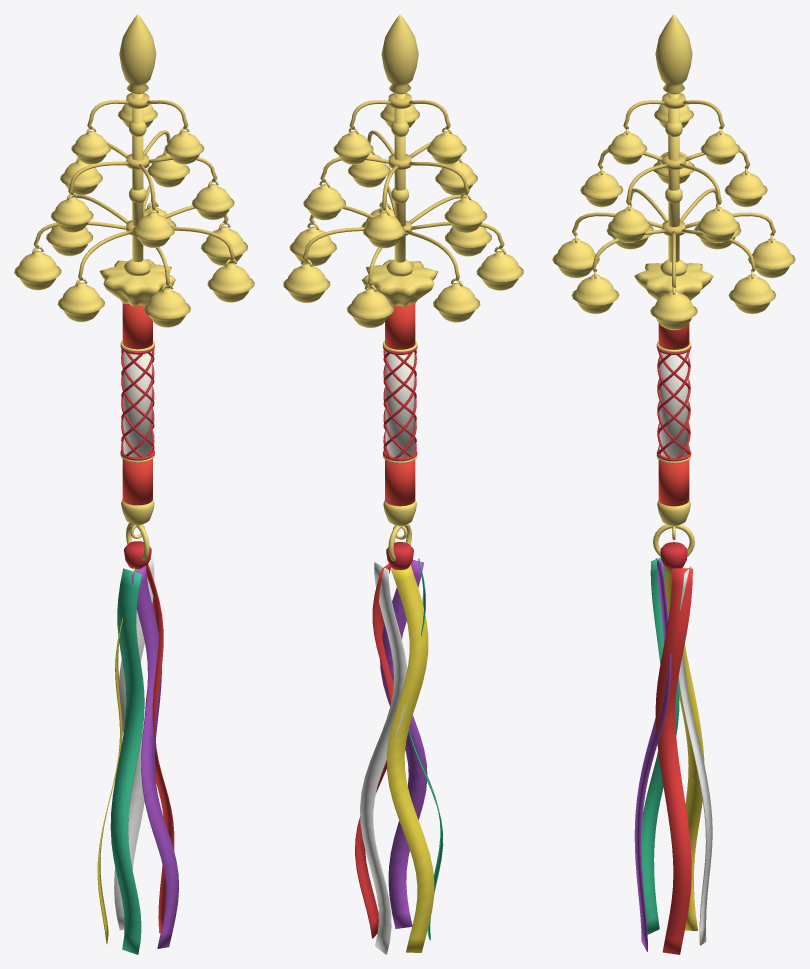
File: ritual_suzu.glb
3 views of the same model, side by side, from view 1: azimuth 30°, elevation 25°; view 2: azimuth 150°, elevation 25°; view 3: azimuth 270°, elevation 25° (orthographic).
Visible parts, largest first — view 1: Tier1_Suzu_Bells, Ribbon_Green, Ribbon_Purple, Tier2_Suzu_Bells, Handle_Lacquered_Grip, Tier3_Suzu_Bells, Guard_Tsuba_Lotus, Ribbon_White, Handle_Ivory_Grip, Ribbon_Red, Finial_Giboshi_Jewel, Handle_Crimson_Cord_Wrap (+7 smaller); view 2: Tier1_Suzu_Bells, Ribbon_Yellow, Tier2_Suzu_Bells, Ribbon_White, Ribbon_Purple, Handle_Lacquered_Grip, Guard_Tsuba_Lotus, Tier3_Suzu_Bells, Ribbon_Red, Handle_Ivory_Grip, Finial_Giboshi_Jewel, Handle_Crimson_Cord_Wrap (+7 smaller); view 3: Ribbon_Red, Tier1_Suzu_Bells, Tier2_Suzu_Bells, Ribbon_Green, Ribbon_Yellow, Ribbon_Purple, Ribbon_White, Tier3_Suzu_Bells, Handle_Ivory_Grip, Tier1_Branch_Armature, Finial_Giboshi_Jewel, Handle_Lacquered_Grip (+7 smaller).
Part boxes in pixels (left/top/right/bottom): Tier1_Suzu_Bells: left=14, top=202, right=254, bottom=327; Ribbon_Green: left=110, top=568, right=144, bottom=954; Ribbon_Purple: left=131, top=565, right=178, bottom=948; Tier2_Suzu_Bells: left=51, top=150, right=234, bottom=247; Handle_Lacquered_Grip: left=122, top=303, right=152, bottom=505; Tier3_Suzu_Bells: left=71, top=104, right=204, bottom=164; Guard_Tsuba_Lotus: left=99, top=259, right=175, bottom=306; Ribbon_White: left=114, top=553, right=154, bottom=930; Handle_Ivory_Grip: left=123, top=351, right=152, bottom=457; Ribbon_Red: left=145, top=564, right=174, bottom=933; Finial_Giboshi_Jewel: left=119, top=14, right=156, bottom=94; Handle_Crimson_Cord_Wrap: left=120, top=345, right=154, bottom=460; Tier1_Suzu_Bells: left=283, top=202, right=523, bottom=328; Ribbon_Yellow: left=386, top=565, right=434, bottom=952; Tier2_Suzu_Bells: left=303, top=150, right=487, bottom=248; Ribbon_White: left=360, top=562, right=407, bottom=954; Ribbon_Purple: left=380, top=560, right=427, bottom=928; Handle_Lacquered_Grip: left=385, top=304, right=415, bottom=506; Guard_Tsuba_Lotus: left=362, top=259, right=438, bottom=307; Tier3_Suzu_Bells: left=333, top=104, right=466, bottom=164; Ribbon_Red: left=355, top=563, right=393, bottom=938; Handle_Ivory_Grip: left=385, top=351, right=414, bottom=457; Finial_Giboshi_Jewel: left=381, top=14, right=418, bottom=94; Handle_Crimson_Cord_Wrap: left=383, top=346, right=417, bottom=461; Ribbon_Red: left=655, top=568, right=692, bottom=954; Tier1_Suzu_Bells: left=552, top=206, right=795, bottom=330; Tier2_Suzu_Bells: left=580, top=152, right=767, bottom=242; Ribbon_Green: left=641, top=557, right=679, bottom=934; Ribbon_Yellow: left=664, top=567, right=704, bottom=930; Ribbon_Purple: left=634, top=558, right=671, bottom=951; Ribbon_White: left=678, top=566, right=712, bottom=945; Tier3_Suzu_Bells: left=607, top=104, right=740, bottom=164; Handle_Ivory_Grip: left=659, top=352, right=688, bottom=458; Tier1_Branch_Armature: left=572, top=188, right=775, bottom=287; Finial_Giboshi_Jewel: left=655, top=14, right=692, bottom=94; Handle_Lacquered_Grip: left=658, top=323, right=689, bottom=506.
Size of the model in its own units: 0.4538 by 1.95 by 0.4631.
